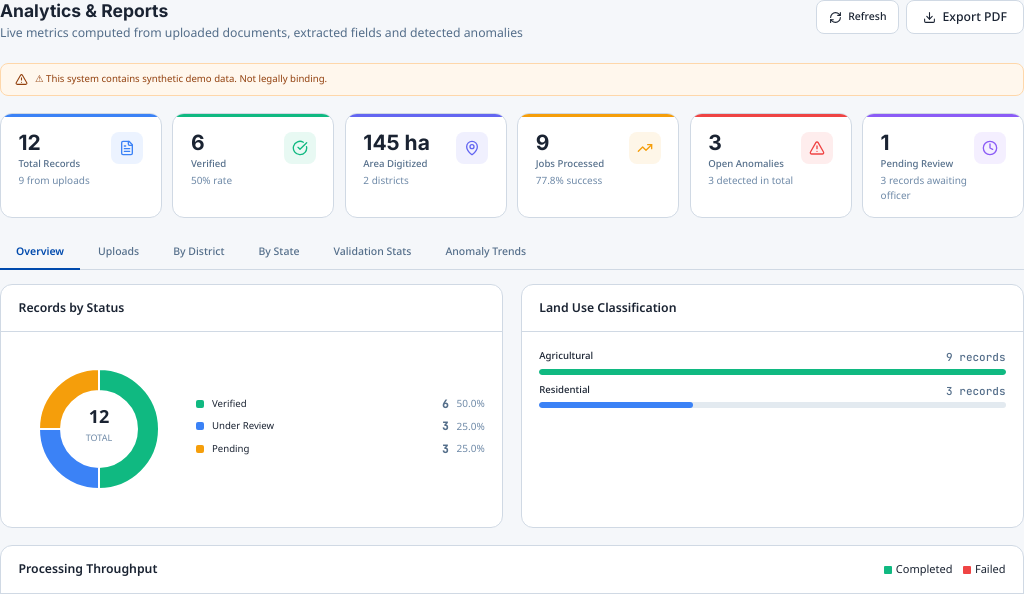
Test: ReportsPage with live analytics › breaks documents down by pipeline status on the uploads tab
Click the button "Uploads" at (119, 253), box x1=82 y1=236 x2=155 y2=270
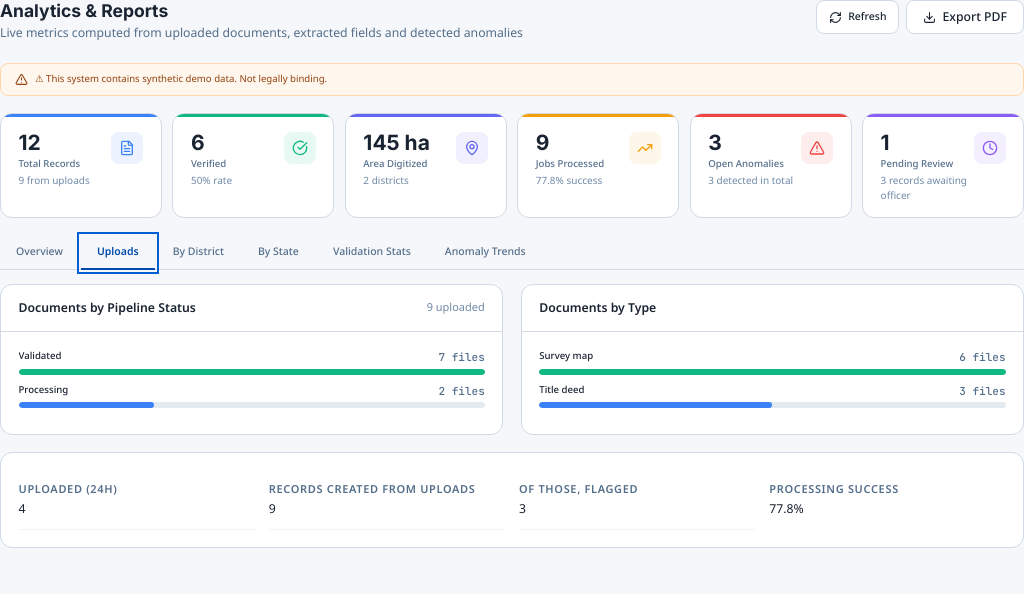
Expected: the text "Documents by Pipeline Status" is shown, x1=18 y1=298 x2=196 y2=317
Expected: the text "Validated" is shown, x1=18 y1=349 x2=62 y2=366
Expected: the text "Processing" is shown, x1=18 y1=383 x2=68 y2=399
